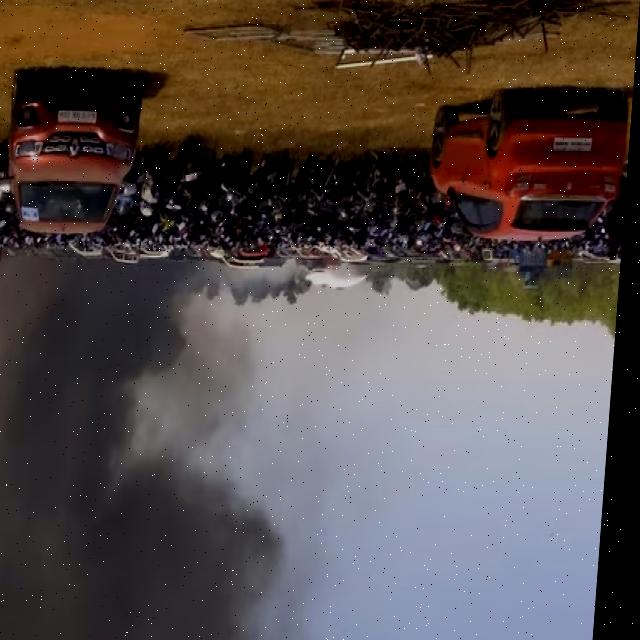plate: (549, 134, 599, 155), (55, 106, 101, 127)
